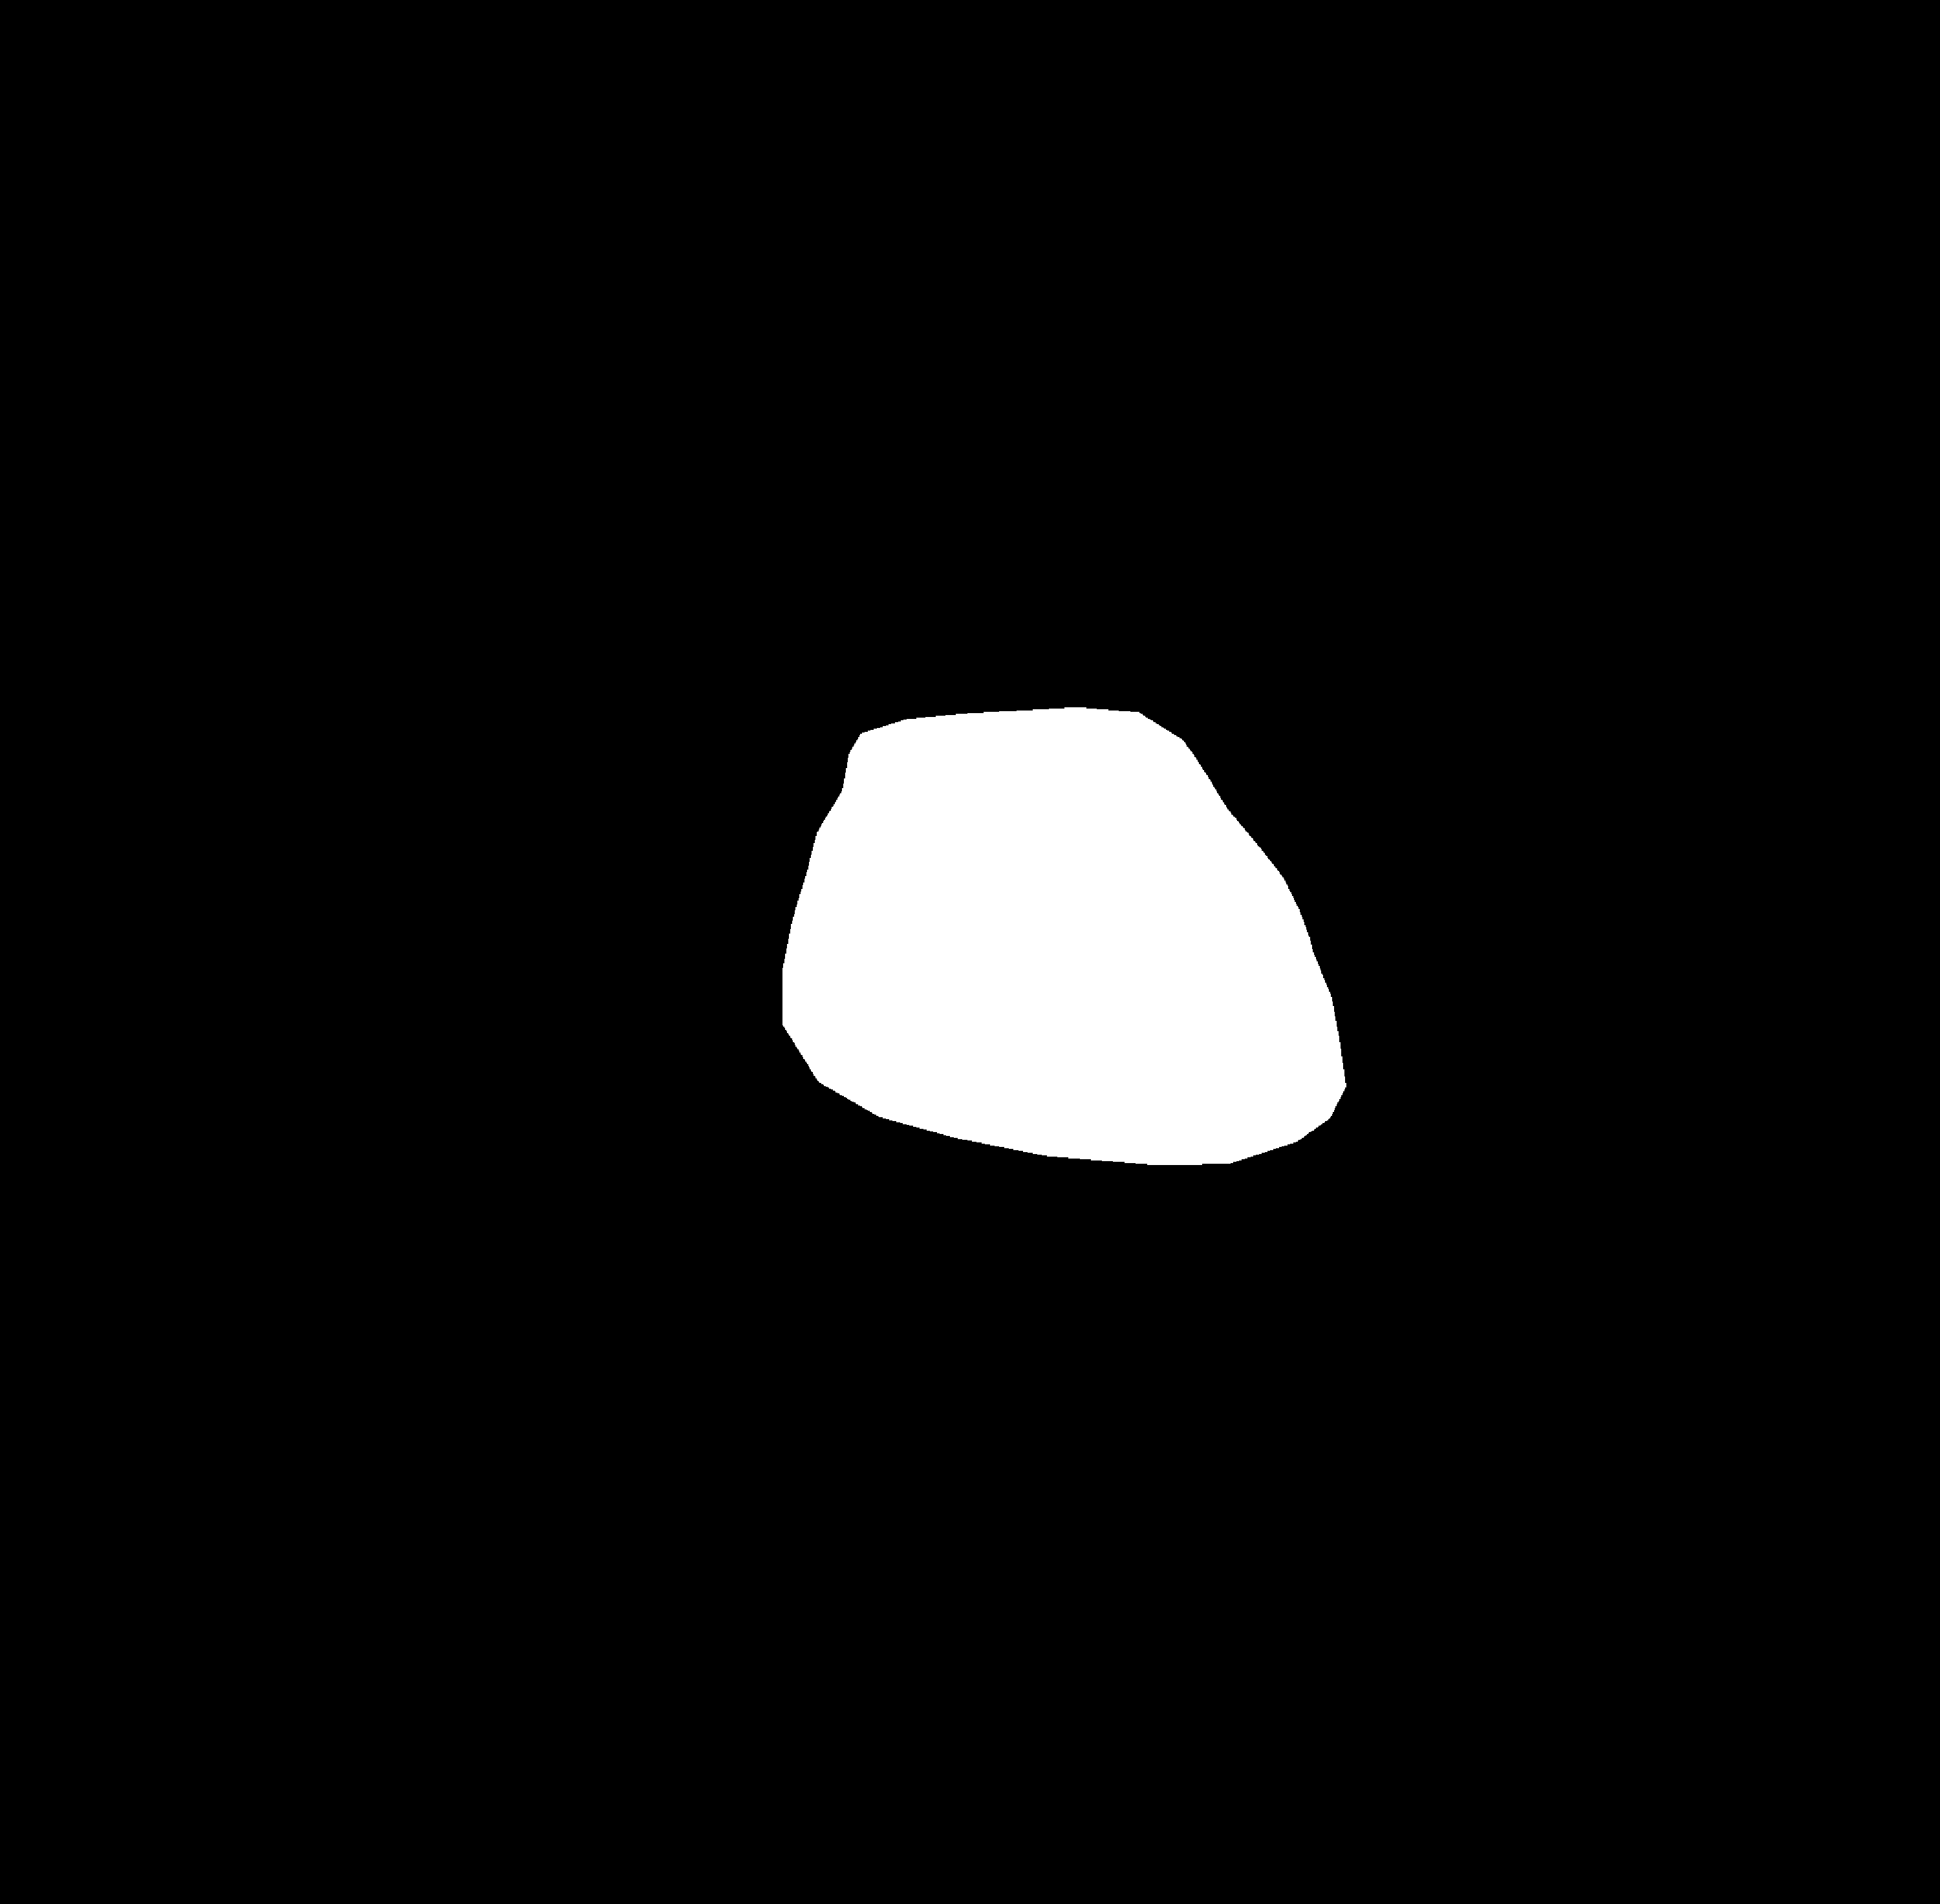heart: (783, 793, 1340, 1180)
left_lung: (377, 124, 928, 1224)
right_lung: (1035, 131, 1568, 1273)
